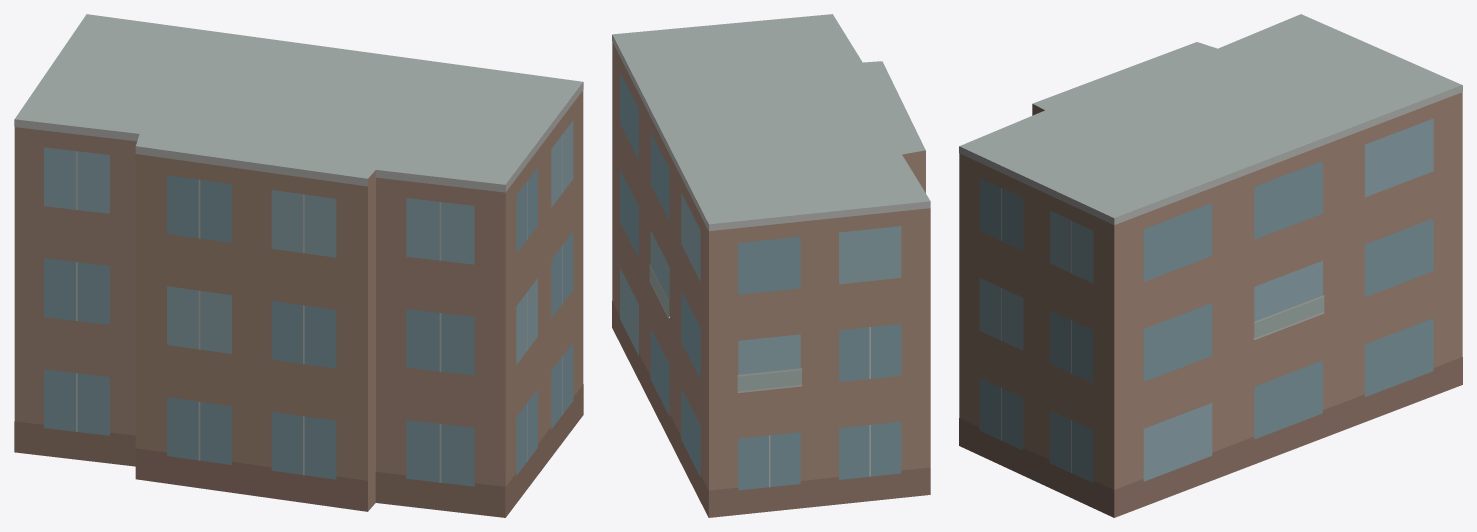
The model's file is survey-upis-32731705.glb.
The picture shows the model from 3 angles, left to right: view 1: azimuth 30°, elevation 25°; view 2: azimuth 150°, elevation 25°; view 3: azimuth 270°, elevation 25°; orthographic projection. The views are drawn at different scales.
Parts seen in each view (by area): view 1: survey-upis-32731705.tmp; view 2: survey-upis-32731705.tmp; view 3: survey-upis-32731705.tmp.
Part boxes in pixels (x1,y1,x2,y2): survey-upis-32731705.tmp: (14,14,583,517); survey-upis-32731705.tmp: (612,14,930,517); survey-upis-32731705.tmp: (959,14,1462,517).
Bounding box in the file's own units: 15.36 × 10.5 × 16.
